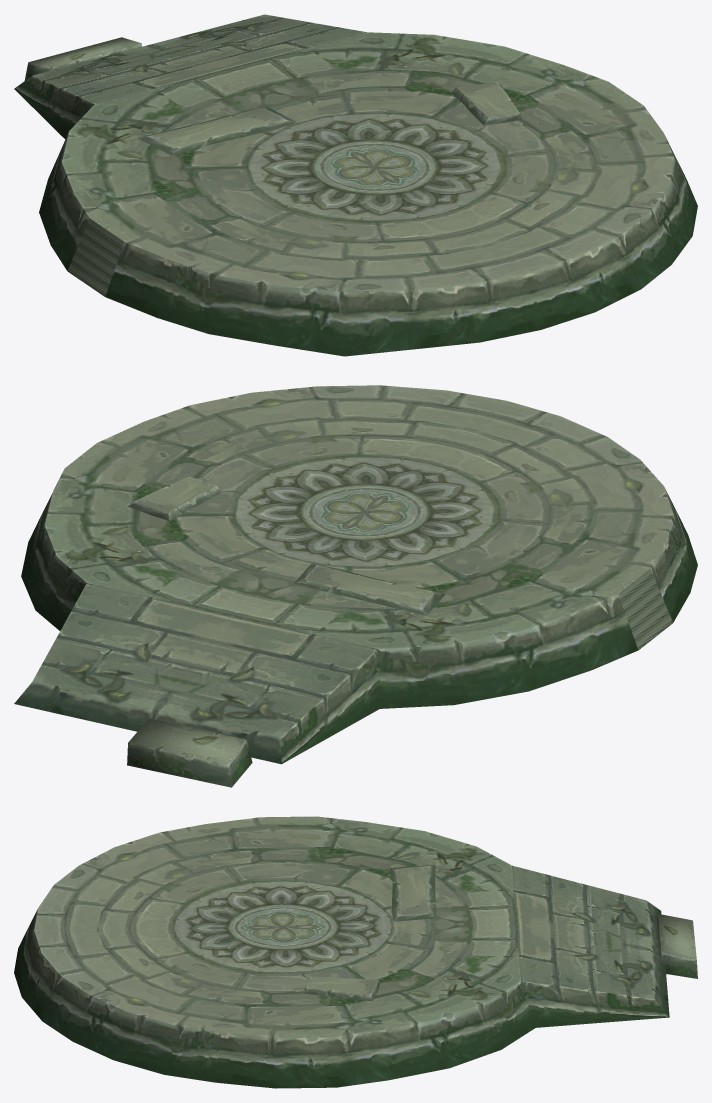
File: cj_xinshou_taizi01_53_50_3584out.fbx
3 views of the same model, one above another, from view 1: azimuth 30°, elevation 25°; view 2: azimuth 150°, elevation 25°; view 3: azimuth 270°, elevation 25° (orthographic). The views are drawn at different scales.
Visible parts, largest first — view 1: cj_xinshou_taizi01; view 2: cj_xinshou_taizi01; view 3: cj_xinshou_taizi01.
Boxes of the visible parts, x1=… form: cj_xinshou_taizi01: x1=14, y1=14, x2=697, y2=356; cj_xinshou_taizi01: x1=14, y1=385, x2=697, y2=787; cj_xinshou_taizi01: x1=14, y1=816, x2=697, y2=1088.
Size of the model in its own units: 7.19 by 0.8604 by 8.7.
